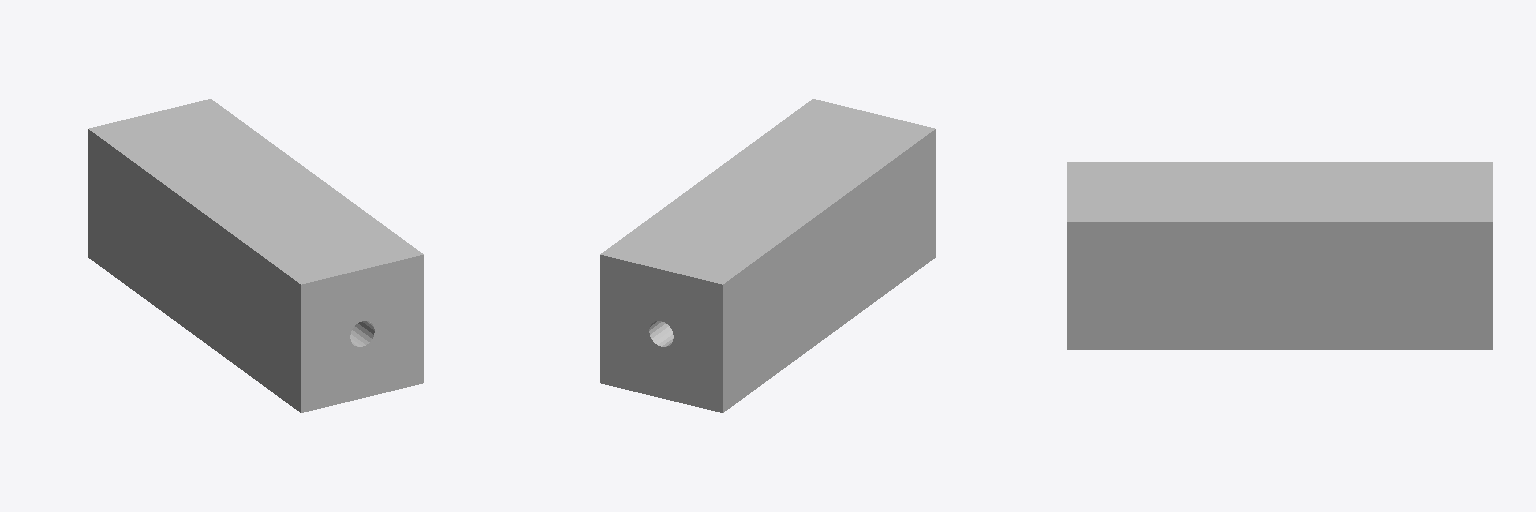
File: TubeJig_30mm.obj
The picture shows the model from 3 angles: view 1: azimuth 30°, elevation 25°; view 2: azimuth 150°, elevation 25°; view 3: azimuth 270°, elevation 25°; orthographic projection.
Parts seen in each view (by area): view 1: Body1; view 2: Body1; view 3: Body1.
Part boxes in pixels (x1,y1,x2,y2): Body1: (88,99,423,412); Body1: (600,99,935,412); Body1: (1067,162,1492,349).
Size of the model in its own units: 10 by 10 by 30.